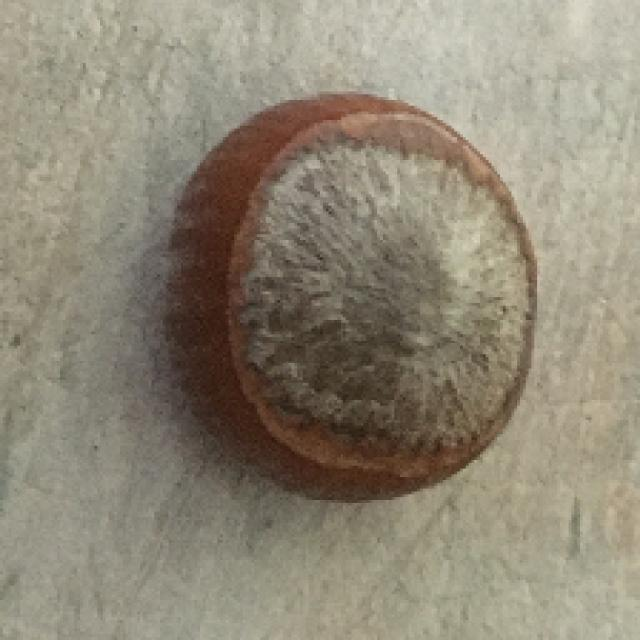qualityHazelnut: (163, 95, 536, 504)
